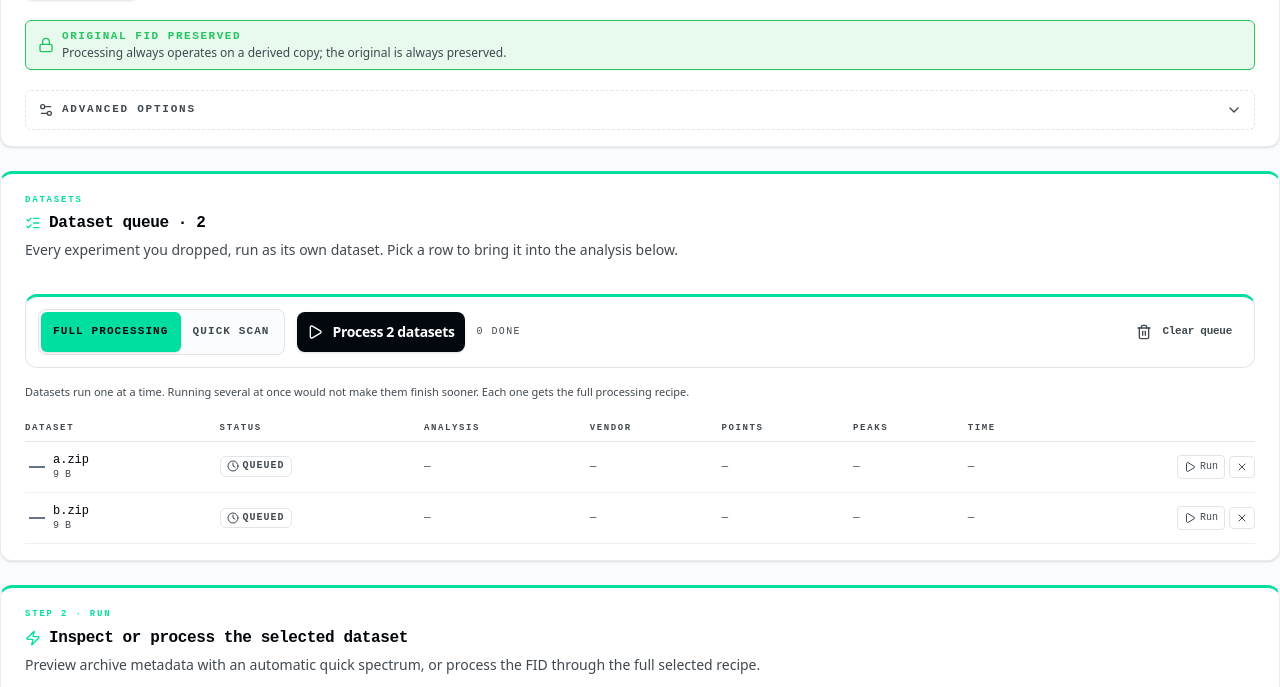
Test: running the queue › stops the run on request and leaves the untouched datasets runnable
Earlier steps of the test are not shown.
(page scrolled)
Step 1. Click the button with test id "raw-fid-queue-run-all" → click(381, 332), box [296, 312, 465, 352]
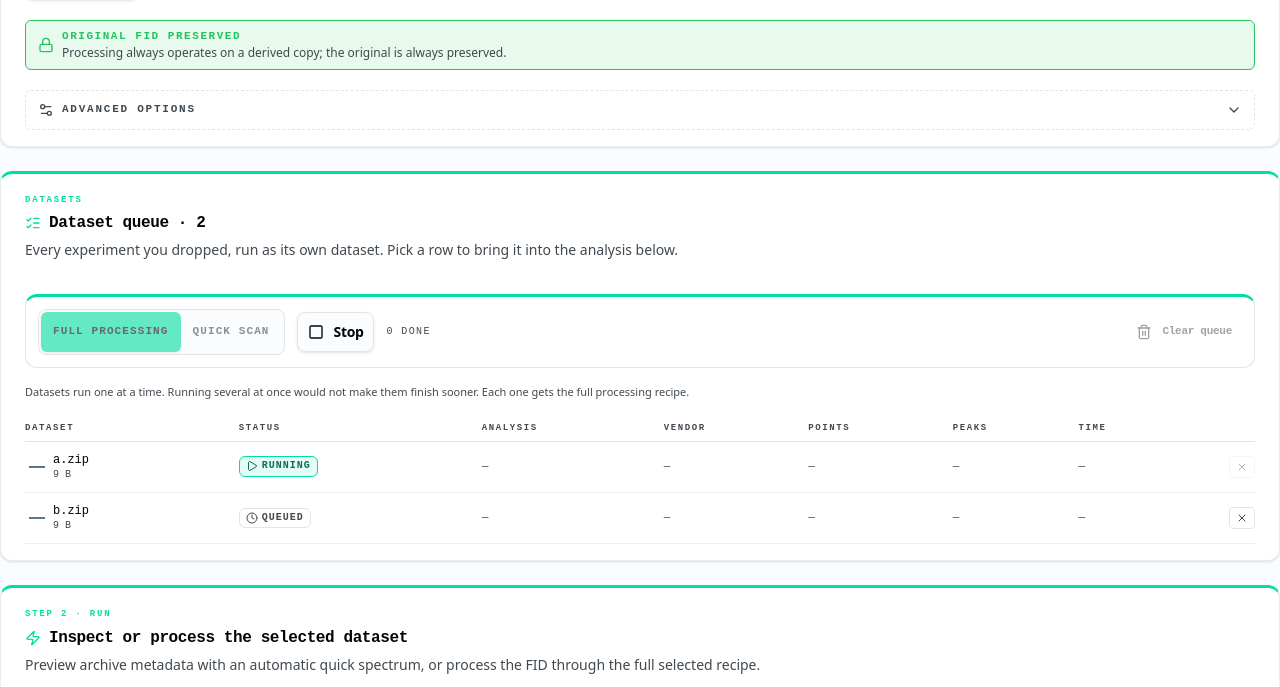
Step 2. Click the button with test id "raw-fid-queue-stop" → click(335, 332), box [296, 312, 374, 352]
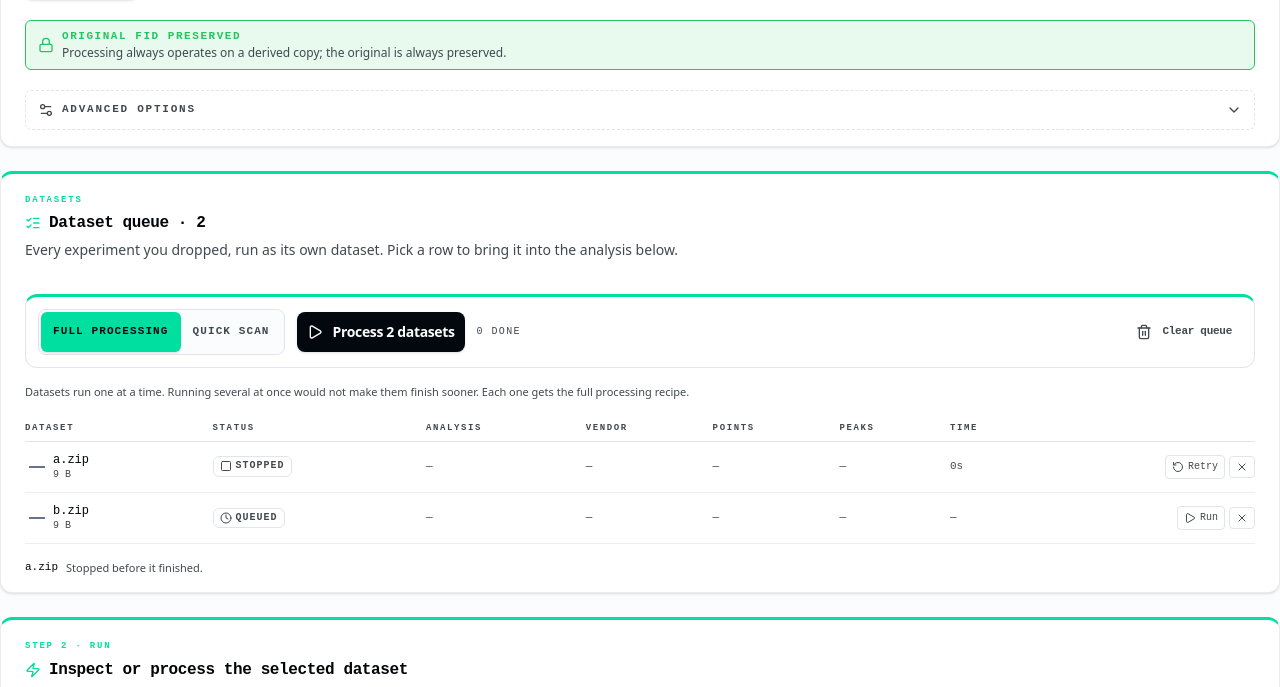
Expected: the text "Queued" is shown, [213, 508, 285, 528]
Expected: the text "Stopped" is shown, [213, 456, 292, 477]
